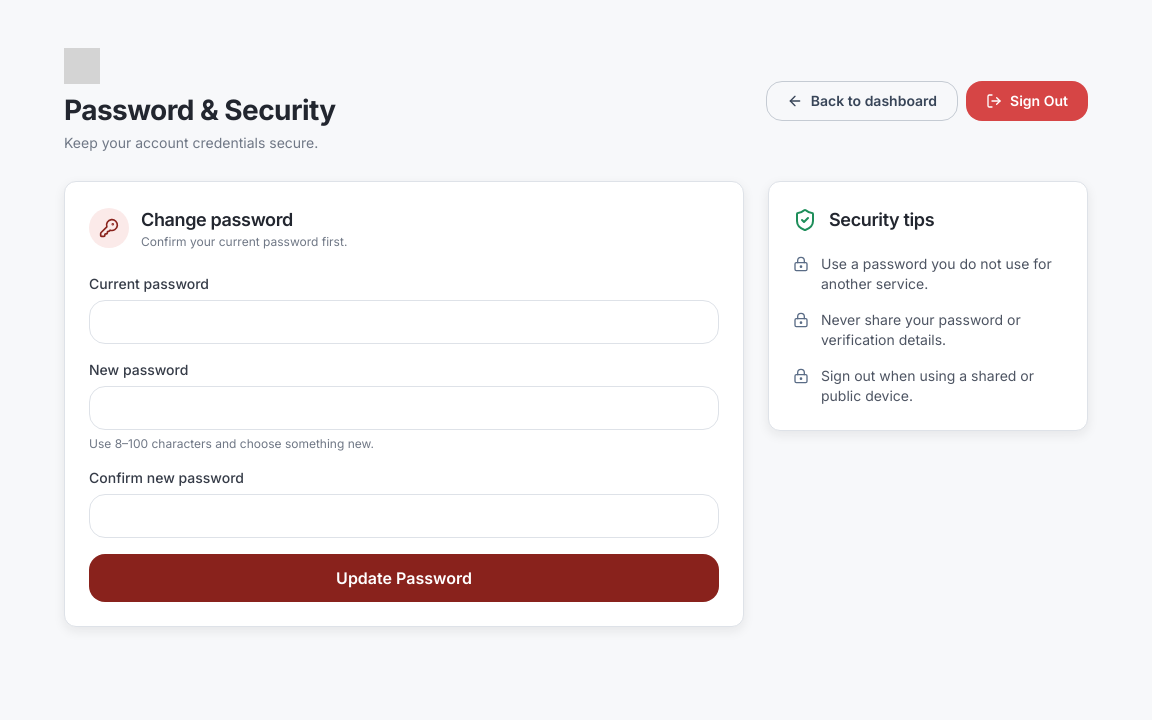
Test: SecurityPage › submits the OpenAPI payload and shows success feedback
Type "old-password" into the password field labelled "Current password" at (404, 322), box [89,300,719,344]
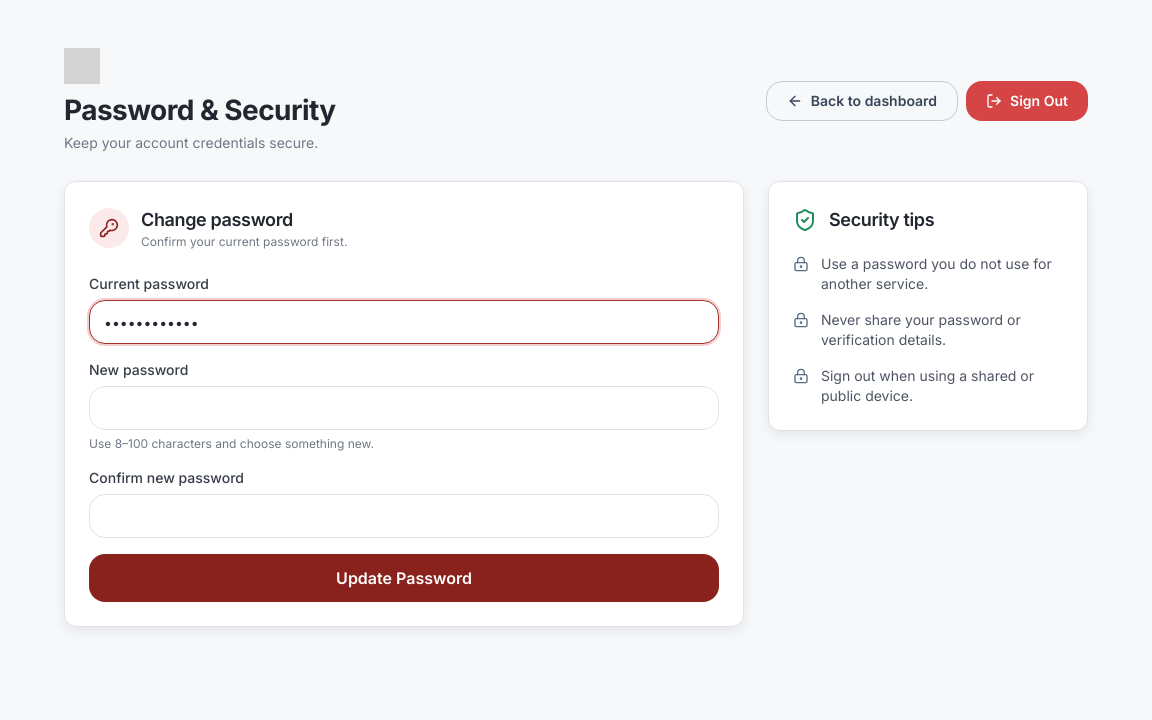
Type "new-password" into the password field labelled "New password" at (404, 408), box [89,386,719,430]
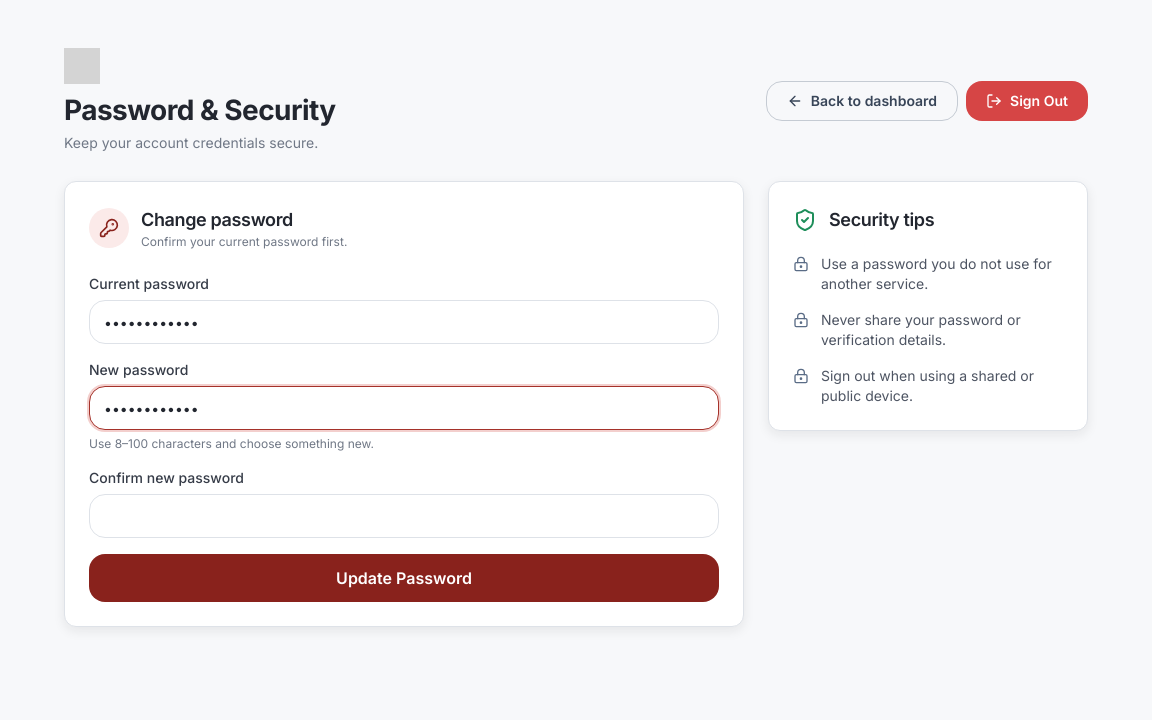
Type "new-password" into the password field labelled "Confirm new password" at (404, 516), box [89,494,719,538]
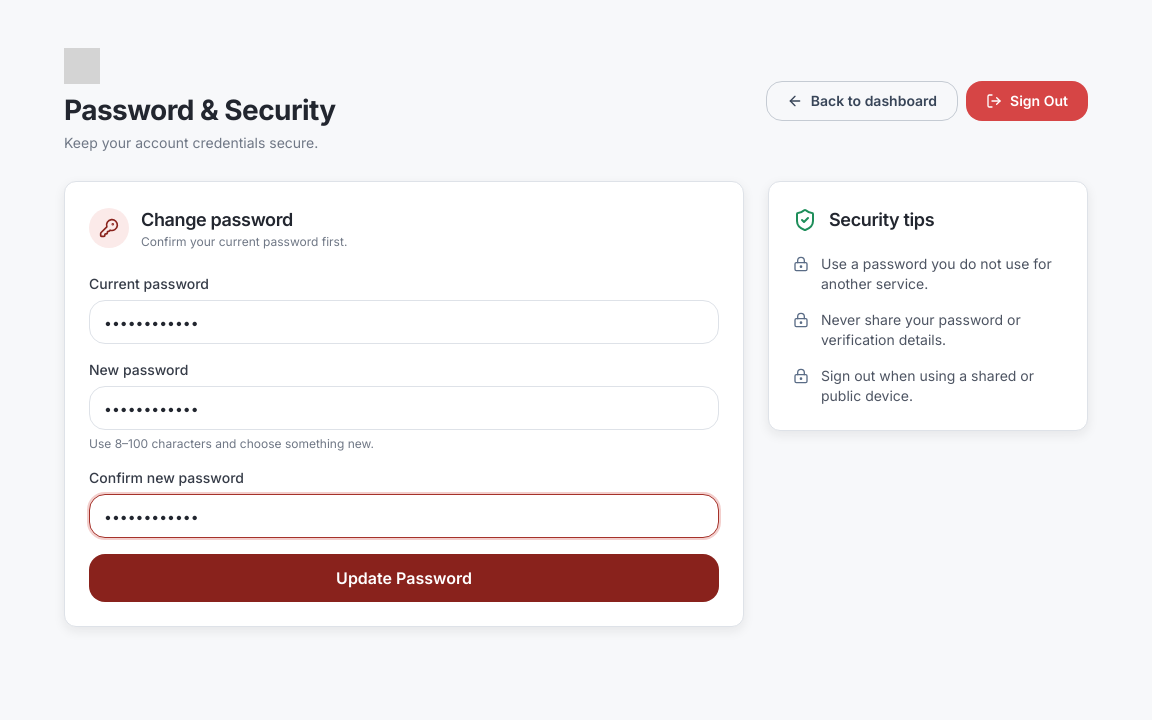
Click the button "Update Password" at (404, 578), box [89,554,719,602]
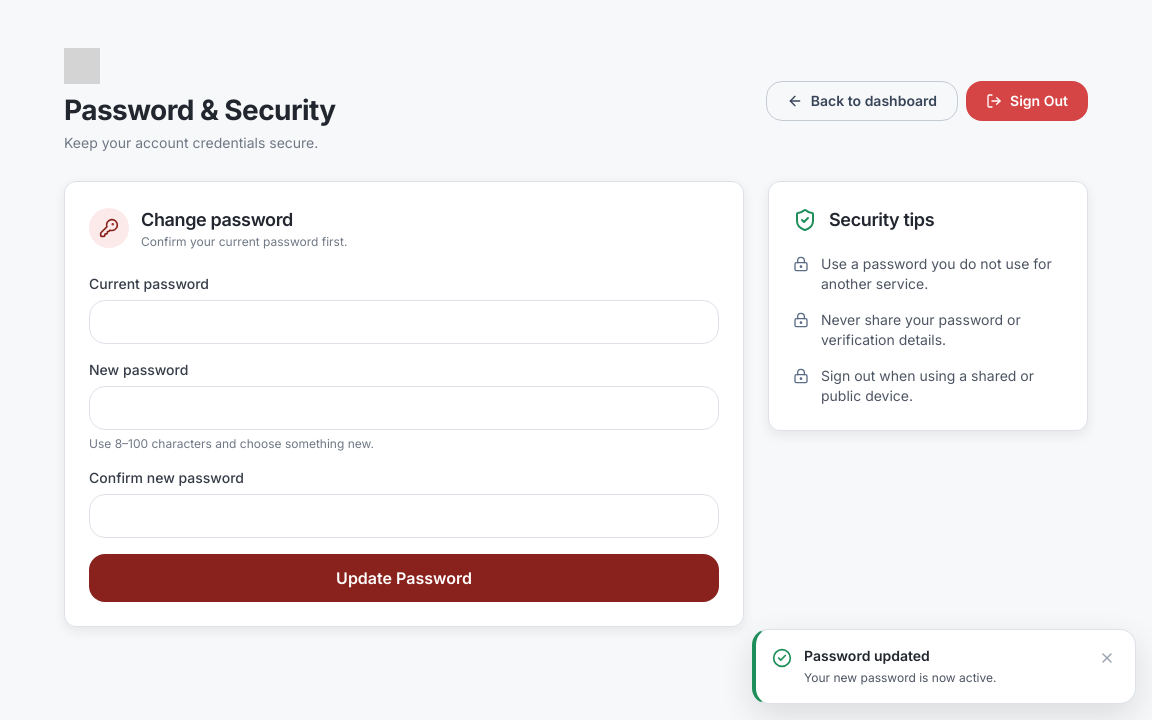
Now the heading "Password updated" is shown, box [804,646,930,664]
